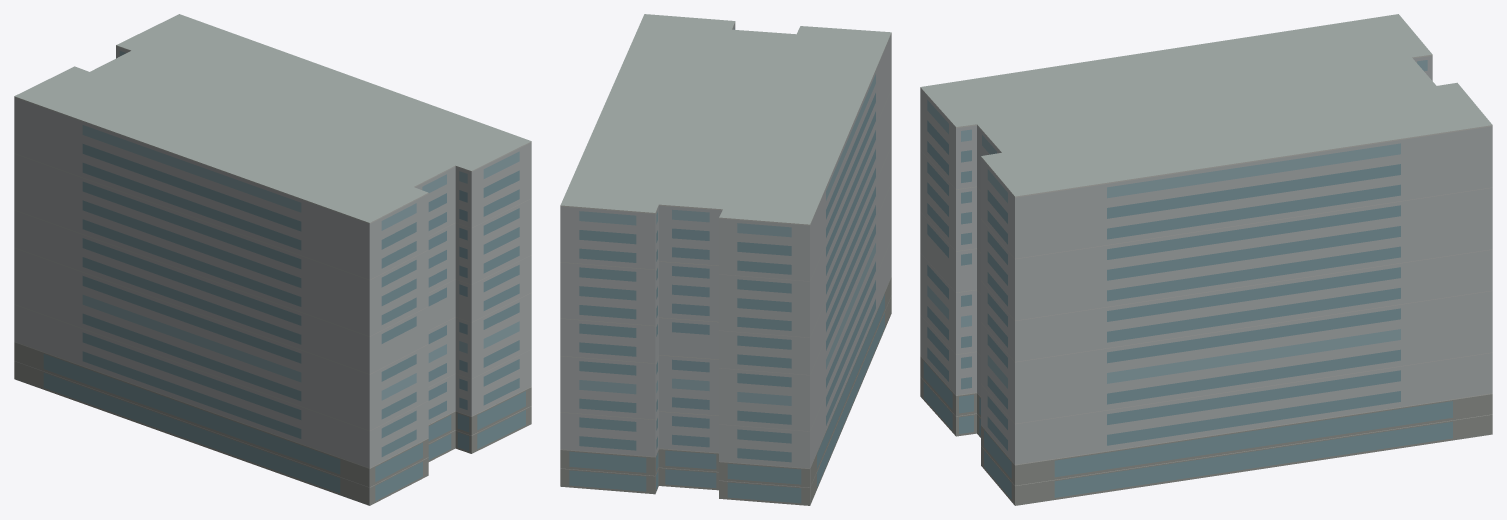
Rendered from survey-upis-33044755.glb.
3 views of the same model, side by side, from view 1: azimuth 30°, elevation 25°; view 2: azimuth 150°, elevation 25°; view 3: azimuth 270°, elevation 25° (orthographic). The views are drawn at different scales.
Parts seen in each view (by area): view 1: survey-upis-33044755.tmp; view 2: survey-upis-33044755.tmp; view 3: survey-upis-33044755.tmp.
Boxes of the visible parts, bbox=[...] form: survey-upis-33044755.tmp: bbox=[14, 14, 531, 505]; survey-upis-33044755.tmp: bbox=[560, 14, 891, 505]; survey-upis-33044755.tmp: bbox=[920, 14, 1492, 505].
Bounding box in the file's own units: 79.49 × 62.8 × 105.
